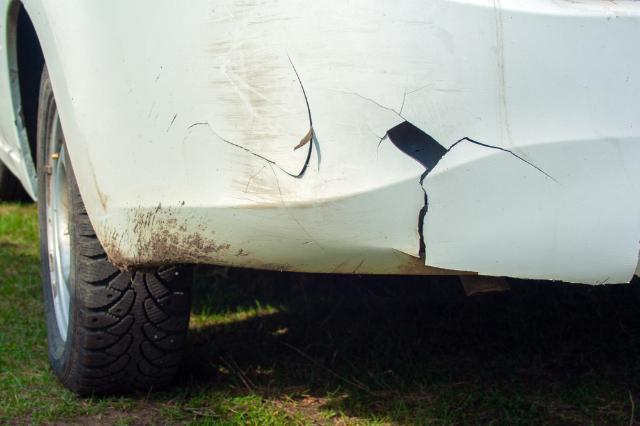crack: (324, 82, 564, 265), (183, 47, 323, 250)
